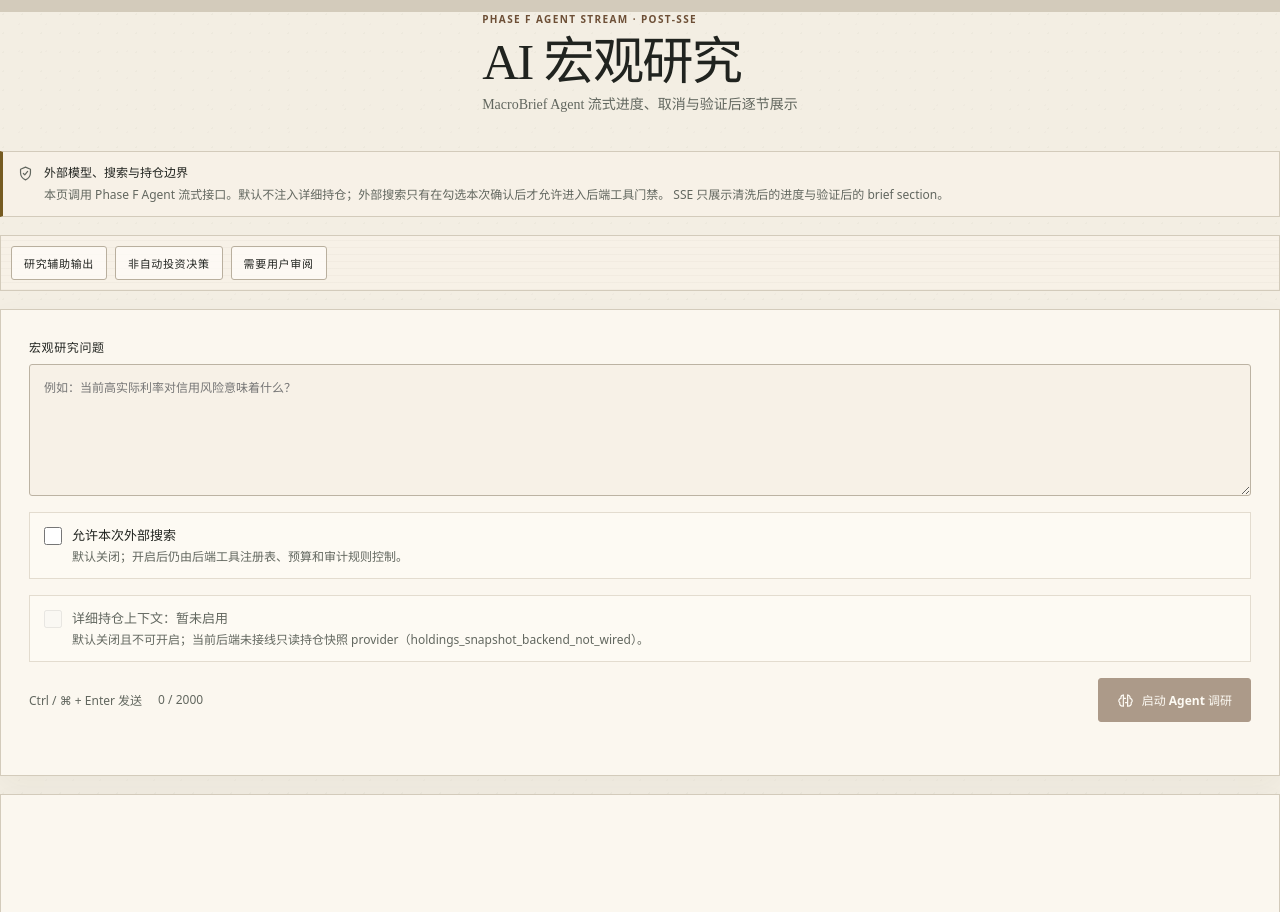
Test case: AIChatPage Agent SSE › sends a cancel request for the active generated session id
The image size is (1280, 912).
Type "请生成可取消的宏观 brief" into the text box labelled "宏观研究问题" at {"x": 640, "y": 430}, box [29,364,1251,496]
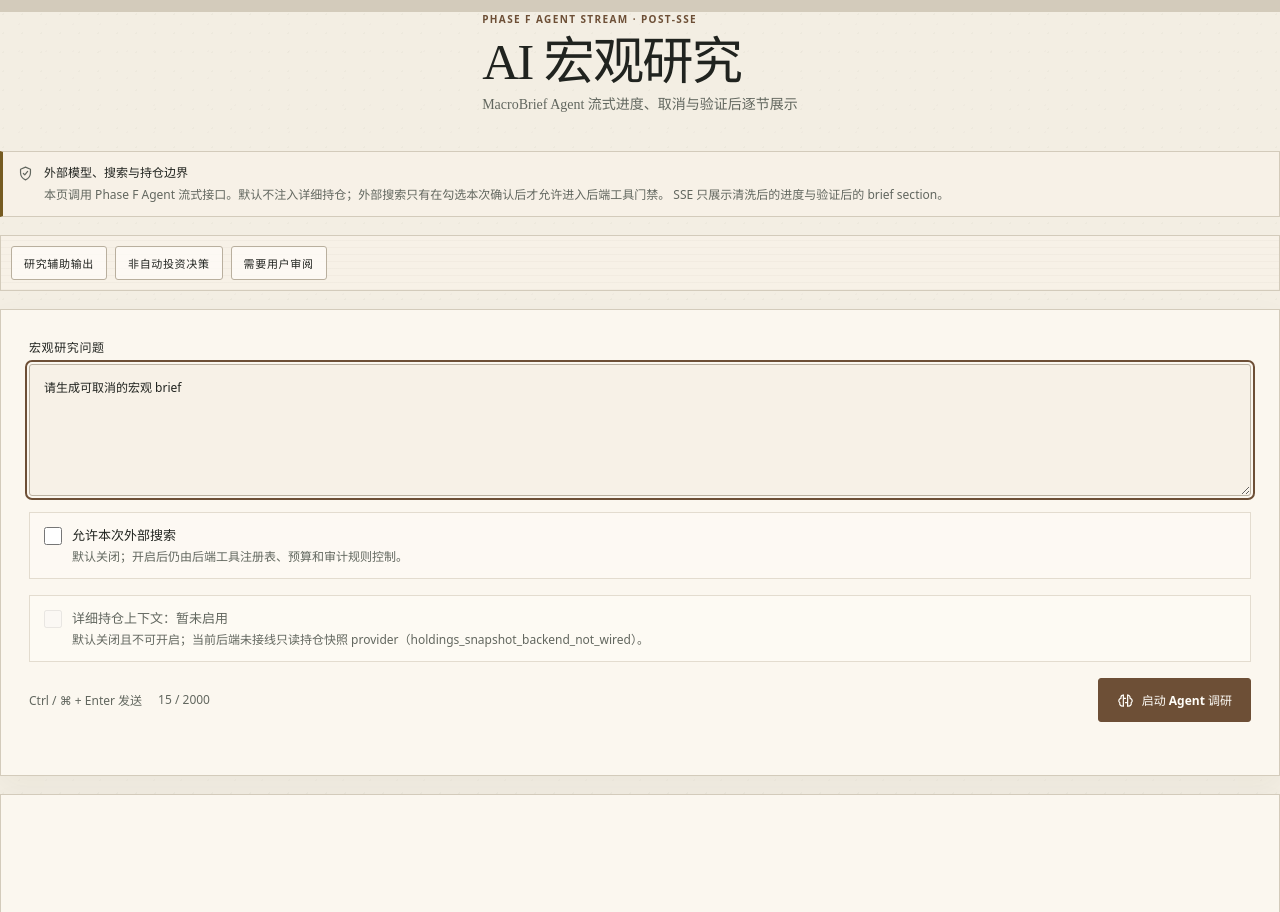
Click the button "启动 Agent 调研" at {"x": 1174, "y": 700}, box [1098,678,1251,722]
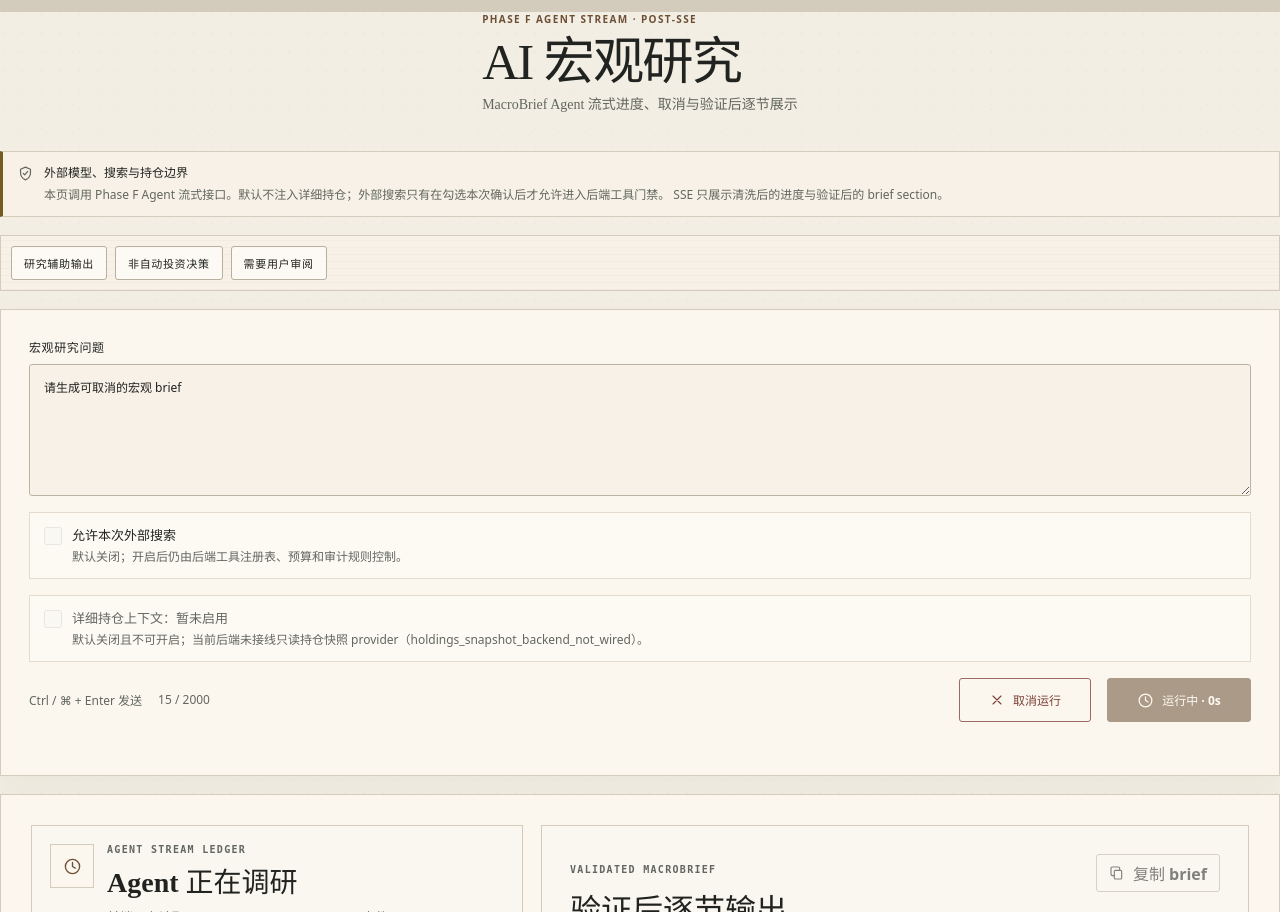
Click the button "取消运行" at {"x": 1025, "y": 700}, box [959,678,1091,722]
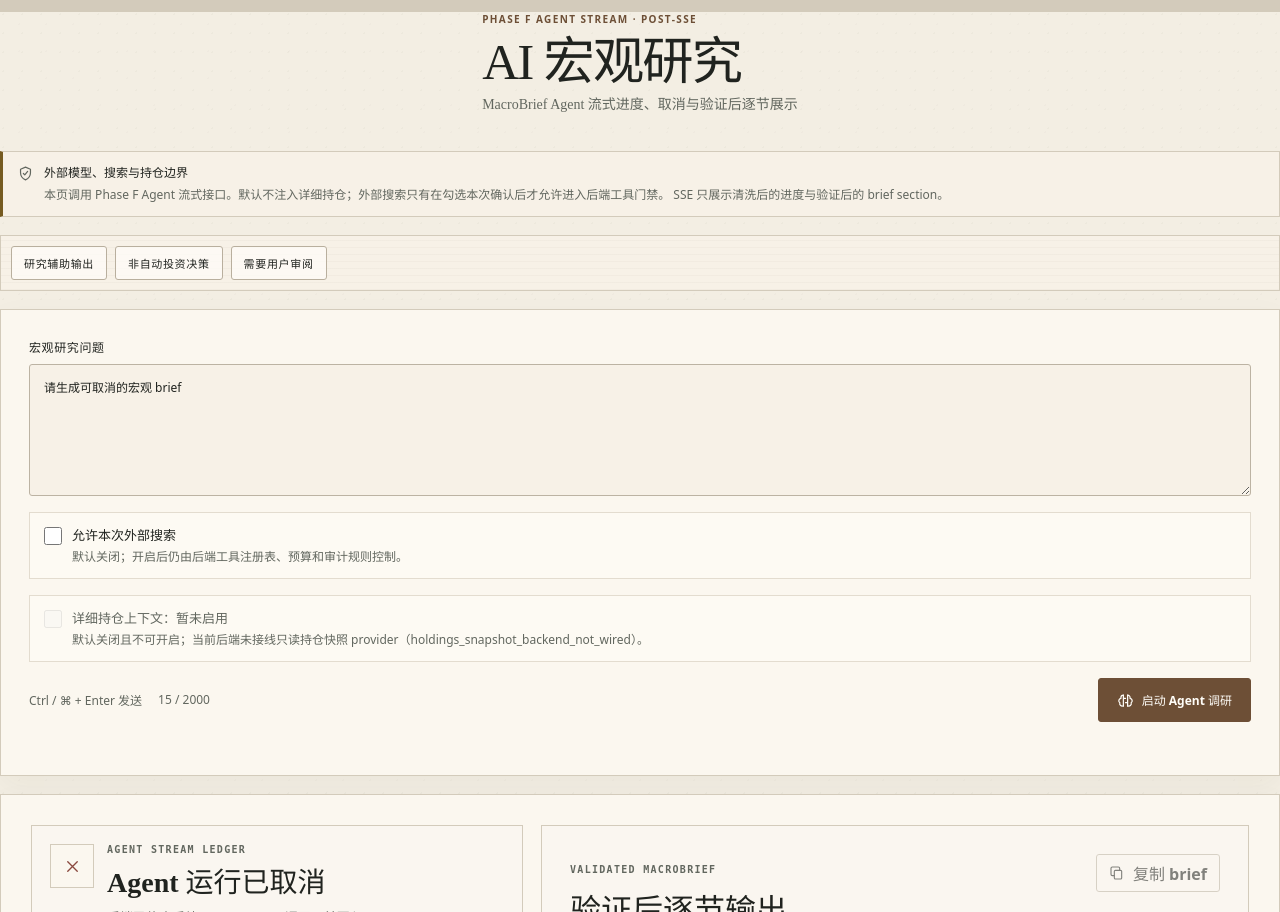
Check: the heading "Agent 运行已取消" is shown, box [107,868,326,898]
